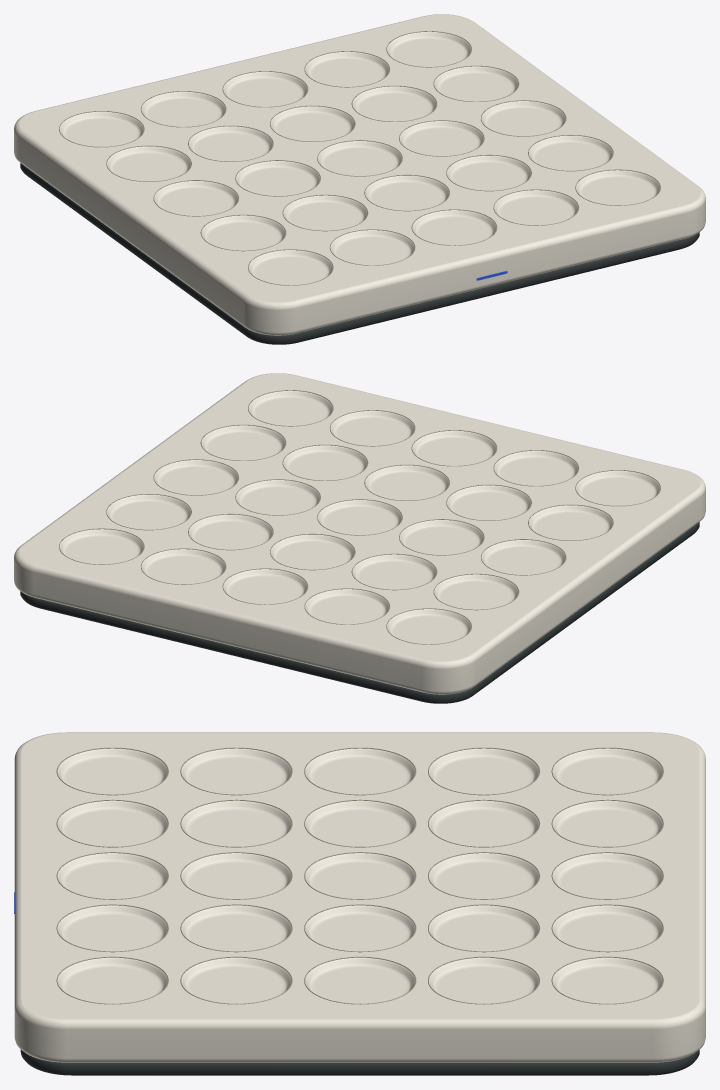
Rendered from four-board.glb.
3 renders of one model, top to bottom at view 1: azimuth 30°, elevation 25°; view 2: azimuth 150°, elevation 25°; view 3: azimuth 270°, elevation 25°, orthographic. The views are drawn at different scales.
Parts seen in each view (by area): view 1: 01 - Single porcelain shell, 04 - Champagne seat rims, 02 - Graphite floating plinth; view 2: 01 - Single porcelain shell, 04 - Champagne seat rims, 02 - Graphite floating plinth; view 3: 01 - Single porcelain shell, 04 - Champagne seat rims, 02 - Graphite floating plinth, 03 - Recessed champagne seam.
Boxes of the visible parts, x1,y1,x2,y2 form: 01 - Single porcelain shell: [14, 14, 705, 335]; 04 - Champagne seat rims: [59, 31, 660, 285]; 02 - Graphite floating plinth: [20, 163, 699, 344]; 01 - Single porcelain shell: [14, 373, 705, 694]; 04 - Champagne seat rims: [59, 390, 660, 644]; 02 - Graphite floating plinth: [20, 522, 699, 703]; 01 - Single porcelain shell: [14, 732, 705, 1062]; 04 - Champagne seat rims: [56, 747, 663, 1004]; 02 - Graphite floating plinth: [20, 1049, 699, 1075]; 03 - Recessed champagne seam: [66, 1062, 654, 1062].
Size of the model in its own units: 6.09 by 0.5945 by 6.1.
